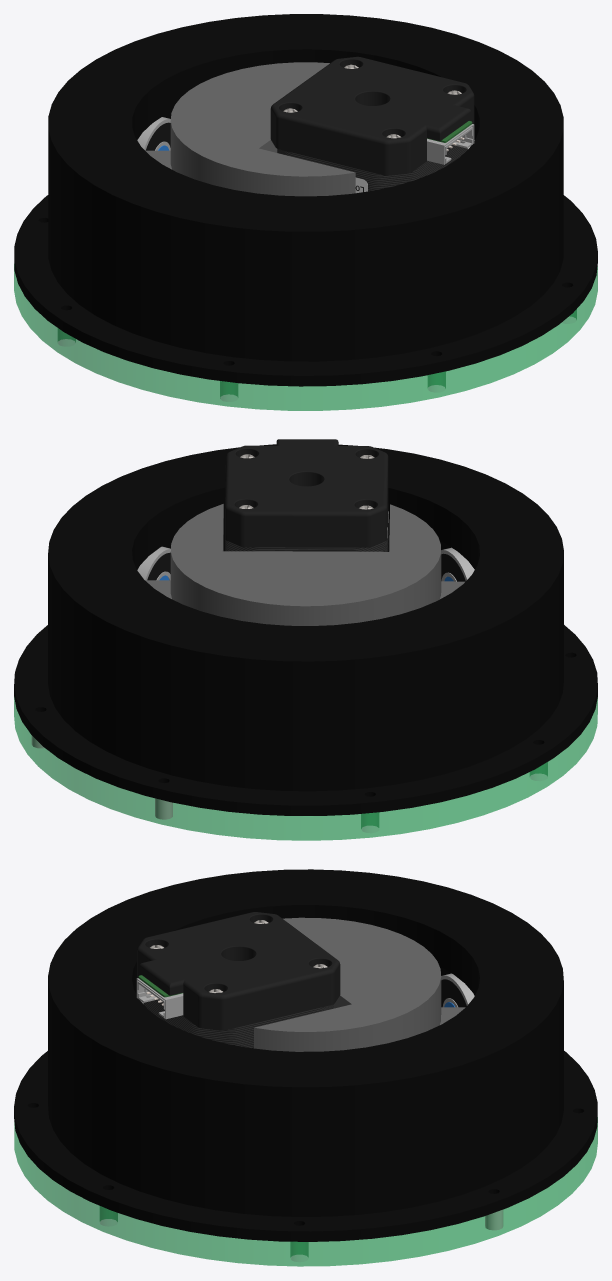
The model's file is testAnim.glb.
The picture shows the model from 3 angles, top to bottom: view 1: azimuth 30°, elevation 25°; view 2: azimuth 150°, elevation 25°; view 3: azimuth 270°, elevation 25°; orthographic projection.
Parts seen in each view (by area): view 1: Solid1 (×5); view 2: Solid1 (×6); view 3: Solid1 (×5).
Boxes of the visible parts, x1,y1,x2,y2 form: Solid1 (×5): (14, 14, 597, 410); Solid1 (×6): (14, 439, 597, 840); Solid1 (×5): (14, 869, 597, 1266).
Size of the model in its own units: 0.151 by 0.0612 by 0.151.
